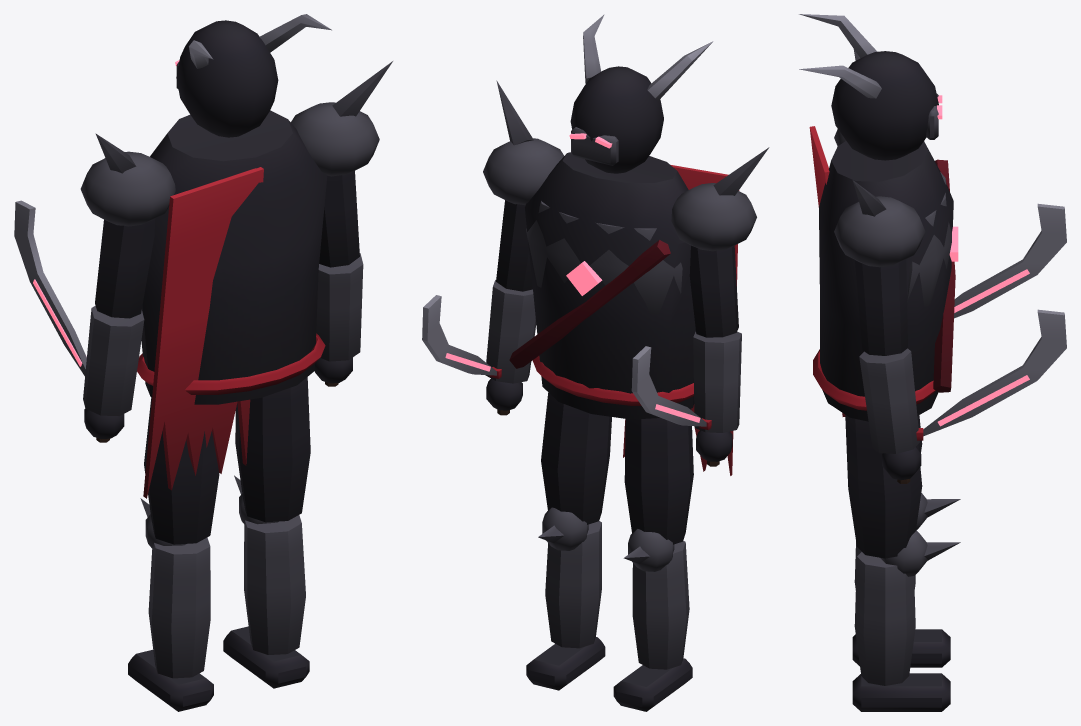
File: mob_abyss_reaver.fbx
3 renders of one model, left to right at view 1: azimuth 30°, elevation 25°; view 2: azimuth 150°, elevation 25°; view 3: azimuth 270°, elevation 25°, orthographic. The views are drawn at different scales.
Parts seen in each view (by area): view 1: Body, ExtraCape, KneeL, KneeR, ArmL, Head, ForearmL, ArmR, LegR, LegL, ForearmR; view 2: Body, KneeL, KneeR, Head, ArmL, LegL, ForearmL, LegR, ArmR, ForearmR, ExtraCape, Body_Glow_Crimson; view 3: Body, KneeR, Head, ForearmR, ArmR, LegR, ForearmL, KneeL, ExtraCape, ForearmR_Glow_Crimson, ForearmL_Glow_Crimson.
Boxes of the visible parts, x1,y1,x2,y2 form: Body: [137, 110, 326, 404]; ExtraCape: [143, 167, 263, 498]; KneeL: [128, 498, 213, 711]; KneeR: [223, 475, 309, 688]; ArmL: [80, 133, 175, 318]; Head: [176, 14, 331, 137]; ForearmL: [14, 200, 144, 442]; ArmR: [291, 61, 392, 267]; LegR: [235, 377, 310, 522]; LegL: [144, 397, 219, 544]; ForearmR: [314, 253, 363, 386]; Body: [509, 152, 695, 419]; KneeL: [613, 529, 692, 711]; KneeR: [526, 507, 605, 690]; Head: [570, 14, 713, 173]; ArmL: [671, 147, 769, 337]; LegL: [624, 409, 693, 544]; ForearmL: [631, 331, 741, 466]; LegR: [541, 392, 611, 524]; ArmR: [483, 80, 563, 291]; ForearmR: [422, 280, 536, 415]; ExtraCape: [623, 165, 739, 475]; Body_Glow_Crimson: [566, 261, 602, 295]; Body: [813, 141, 955, 421]; KneeR: [852, 530, 960, 711]; Head: [799, 14, 938, 160]; ForearmR: [859, 309, 1066, 483]; ArmR: [834, 180, 925, 355]; LegR: [845, 415, 922, 558]; ForearmL: [954, 203, 1066, 318]; KneeL: [852, 493, 960, 667]; ExtraCape: [809, 126, 845, 416]; ForearmR_Glow_Crimson: [937, 375, 1029, 426]; ForearmL_Glow_Crimson: [954, 269, 1029, 312].
Size of the model in its own units: 300 by 650 by 247.
Materials: 2 (1 with a texture image).
